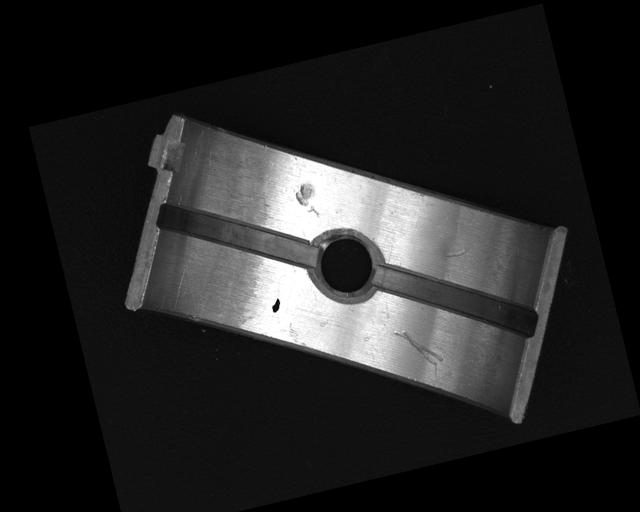blot: (269, 297, 282, 313)
bruise: (292, 179, 321, 223)
gap: (371, 231, 542, 368), (152, 171, 319, 299)
hole: (306, 224, 390, 307)
nick: (393, 320, 445, 374), (442, 246, 469, 260)
